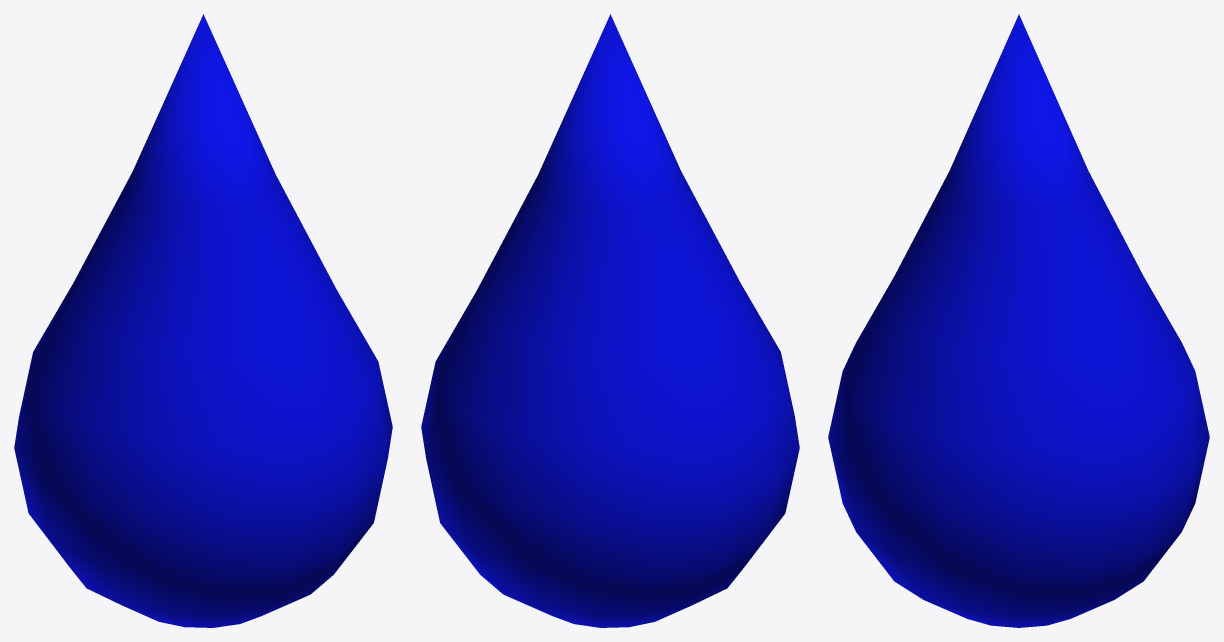
File: ManaDrop.fbx
3 views of the same model, side by side, from view 1: azimuth 30°, elevation 25°; view 2: azimuth 150°, elevation 25°; view 3: azimuth 270°, elevation 25° (orthographic).
Visible parts, largest first — view 1: Sphere; view 2: Sphere; view 3: Sphere.
Part boxes in pixels (x1,y1,x2,y2): Sphere: (14,14,392,627); Sphere: (421,14,799,627); Sphere: (828,14,1209,627).
Bounding box in the file's own units: 21.81 × 37.58 × 21.81.
